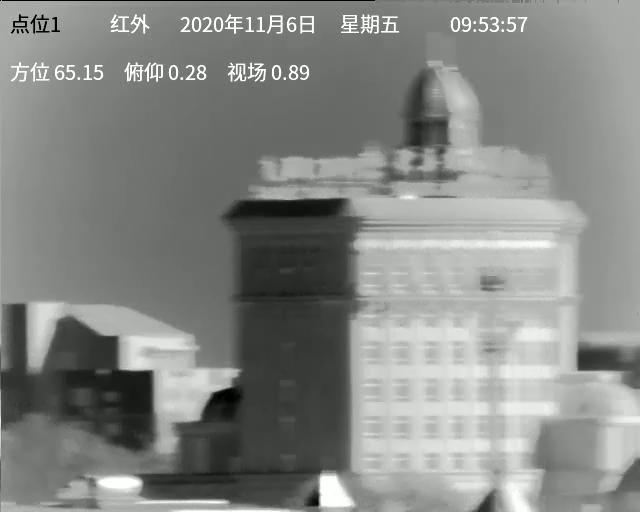uav: (405, 320, 415, 329)
